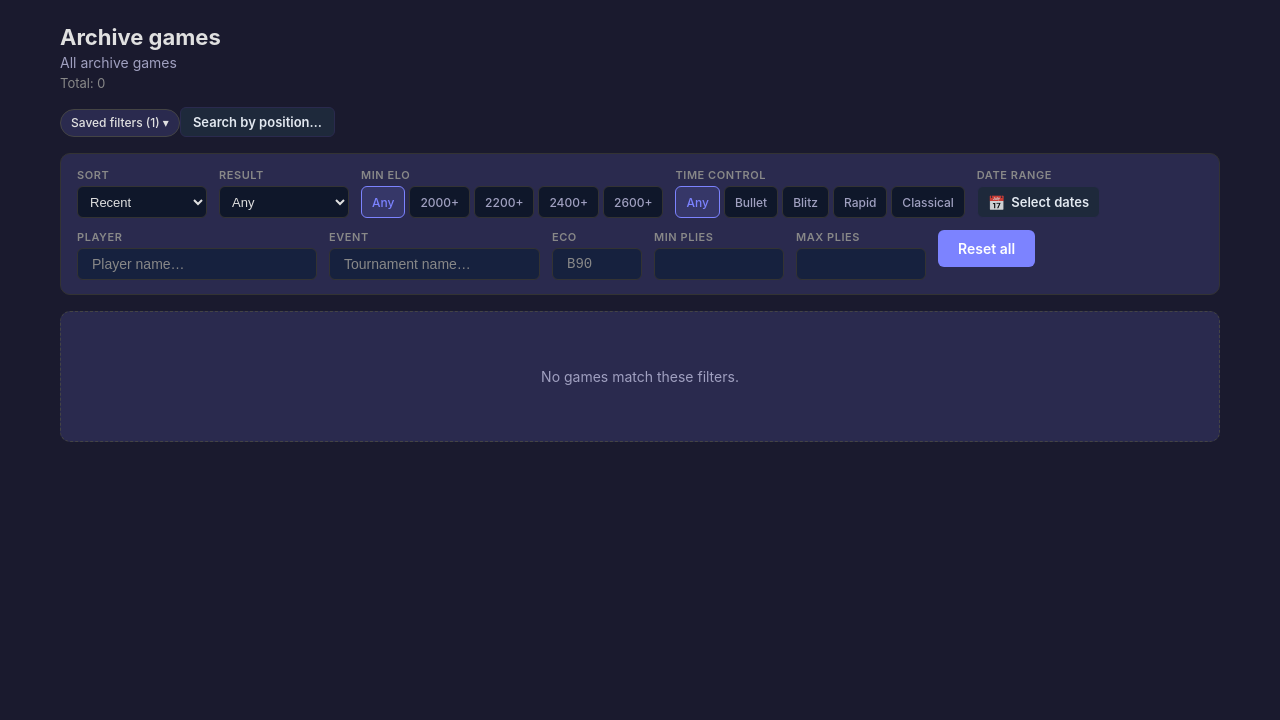
Scenario: SavedFiltersDropdown в ArchiveMetadataMode — KS-2936 интеграция › KS-2938 §2: apply пресета триггерит перезапрос архива с правильными query-params
Click the button with test id "saved-filters-toggle" at (120,123), box [60,109,180,137]
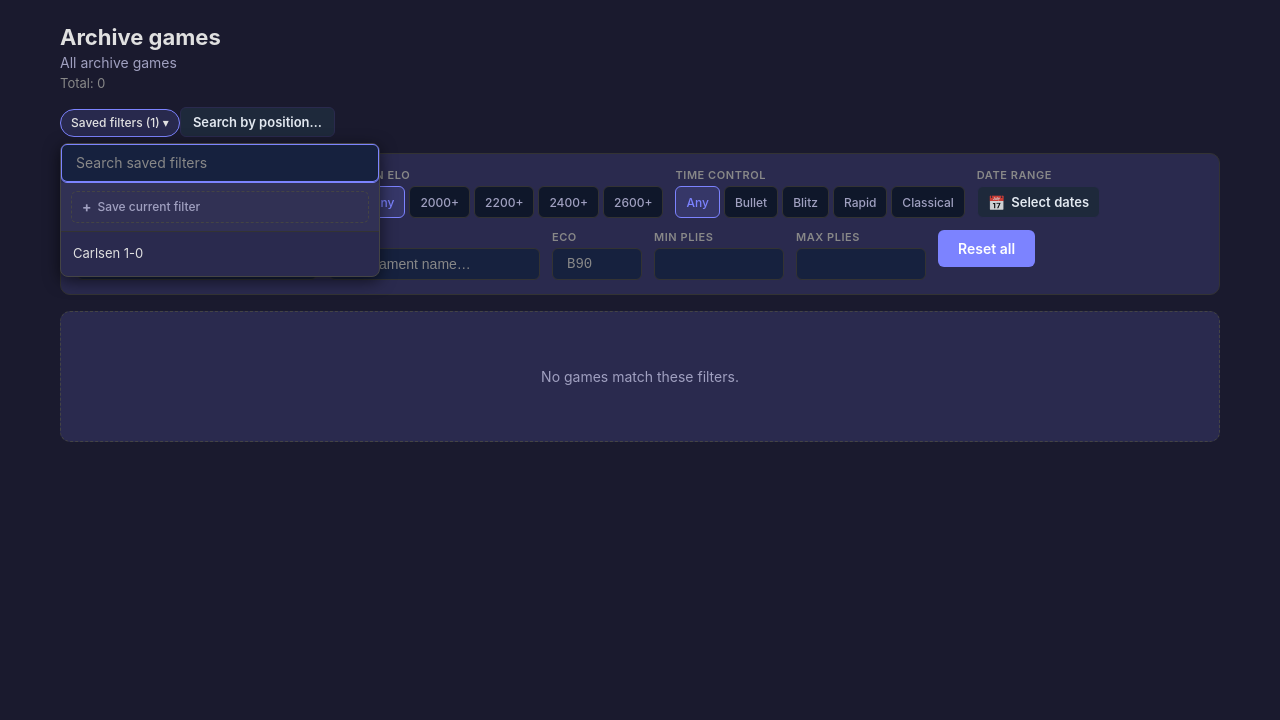
Click the menu item with test id "saved-filters-apply-p-refetch" at (108,253), box [61,236,351,272]
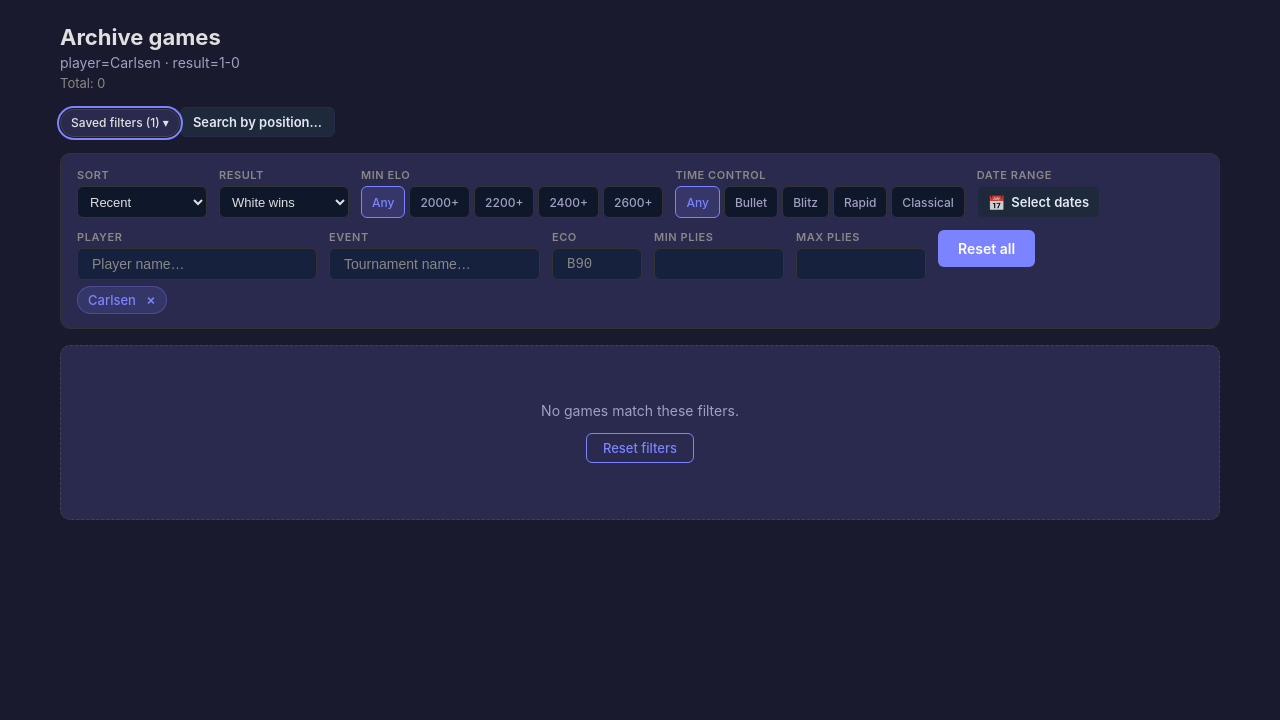
expect the text "Carlsen" is shown: met, box [88,292,136,308]
